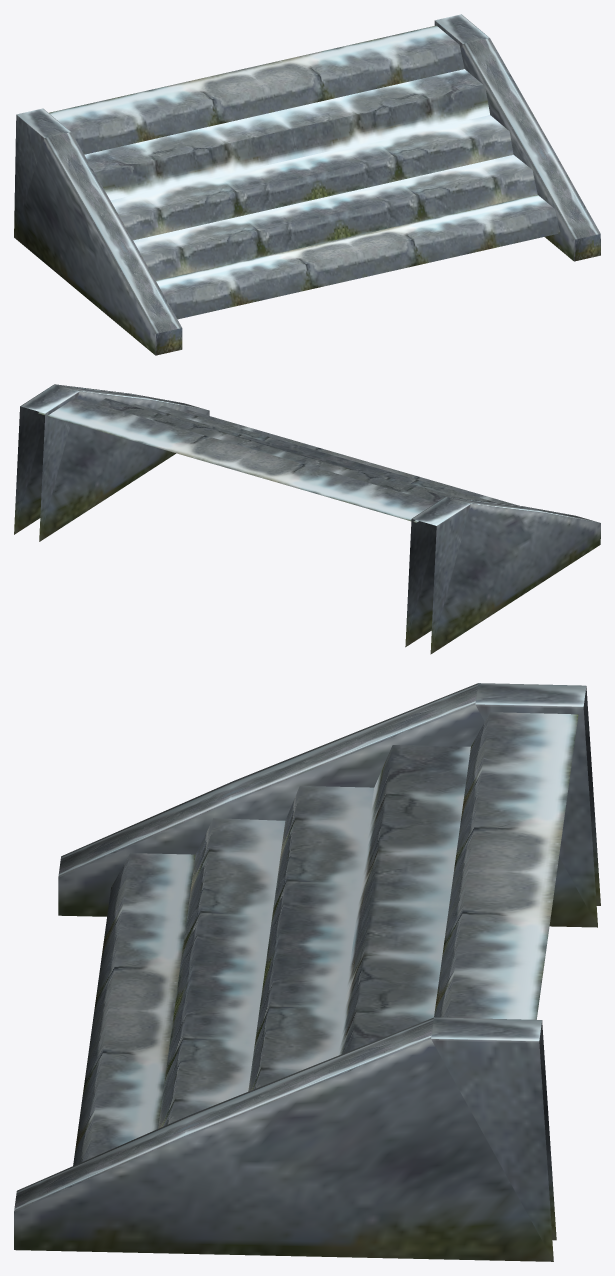
File: s_battle_06_louti.FBX
The picture shows the model from 3 angles, top to bottom: view 1: azimuth 30°, elevation 25°; view 2: azimuth 150°, elevation 25°; view 3: azimuth 270°, elevation 25°; orthographic projection. The views are drawn at different scales.
Visible parts, largest first — view 1: louti; view 2: louti; view 3: louti.
Boxes of the visible parts, box(x1,y1,x2,y2) form: louti: box(14, 14, 600, 355); louti: box(14, 384, 600, 654); louti: box(14, 683, 600, 1261).
Bounding box in the file's own units: 11.14 × 3.14 × 7.34.
